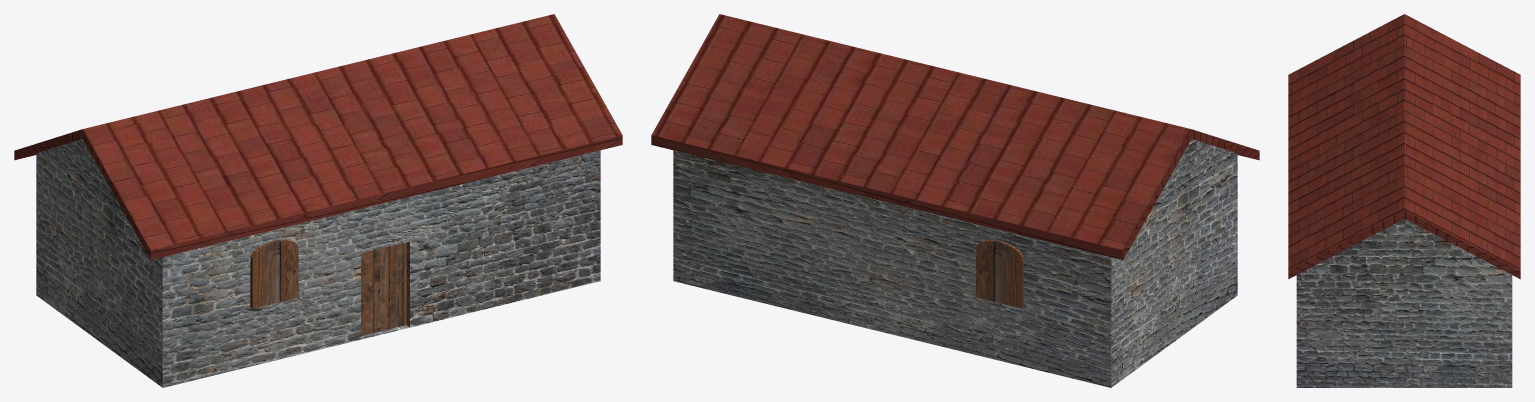
File: medieval_longhouse_3D.fbx
The picture shows the model from 3 angles, left to right: view 1: azimuth 30°, elevation 25°; view 2: azimuth 150°, elevation 25°; view 3: azimuth 270°, elevation 25°; orthographic projection. The views are drawn at different scales.
Parts seen in each view (by area): view 1: Cube, Cube.001, arc_window.001; view 2: Cube, Cube.001, arc_window.002; view 3: Cube.001, Cube.
Part boxes in pixels (left/top/right/bottom): Cube: left=36, top=139, right=600, bottom=387; Cube.001: left=14, top=14, right=622, bottom=259; arc_window.001: left=250, top=240, right=298, bottom=308; Cube: left=673, top=139, right=1237, bottom=387; Cube.001: left=651, top=14, right=1259, bottom=259; arc_window.002: left=976, top=240, right=1023, bottom=308; Cube.001: left=1288, top=14, right=1520, bottom=279; Cube: left=1296, top=218, right=1512, bottom=387.
Size of the model in its own units: 1294 by 568 by 647.
Materials: 5 (5 with a texture image).
